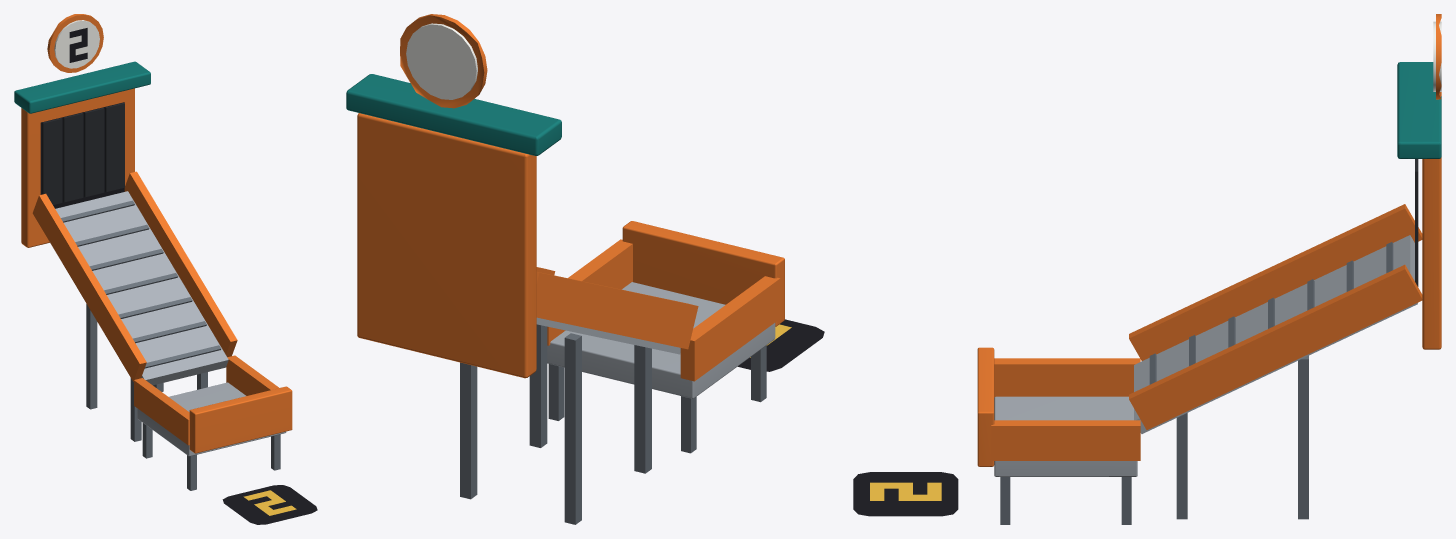
File: Tobogan2.fbx
The picture shows the model from 3 angles, left to right: view 1: azimuth 30°, elevation 25°; view 2: azimuth 150°, elevation 25°; view 3: azimuth 270°, elevation 25°; orthographic projection. The views are drawn at different scales.
Visible parts, largest first — view 1: Tobogan2; view 2: Tobogan2; view 3: Tobogan2.
Part boxes in pixels (x1,y1,x2,y2): Tobogan2: (14,14,317,524); Tobogan2: (346,14,824,524); Tobogan2: (853,14,1441,524).
Size of the model in its own units: 3.5 by 9.53 by 10.65.
Materials: 1 (1 with a texture image).
